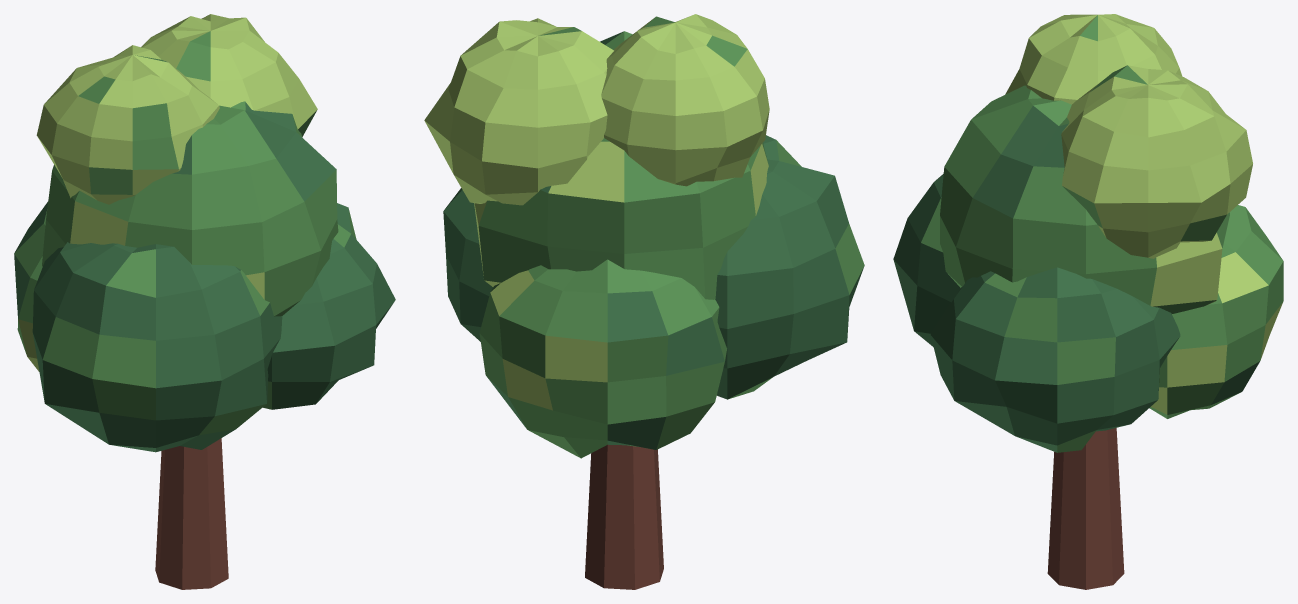
Rendered from great-tree.glb.
3 views of the same model, side by side, from view 1: azimuth 30°, elevation 25°; view 2: azimuth 150°, elevation 25°; view 3: azimuth 270°, elevation 25° (orthographic). The views are drawn at different scales.
Visible parts, largest first — view 1: great-tree; view 2: great-tree; view 3: great-tree.
Part boxes in pixels (<box>): great-tree: <box>14,14,395,589</box>; great-tree: <box>424,14,864,589</box>; great-tree: <box>893,14,1283,589</box>.
Bounding box in the file's own units: 2.78 × 4.05 × 2.69.
